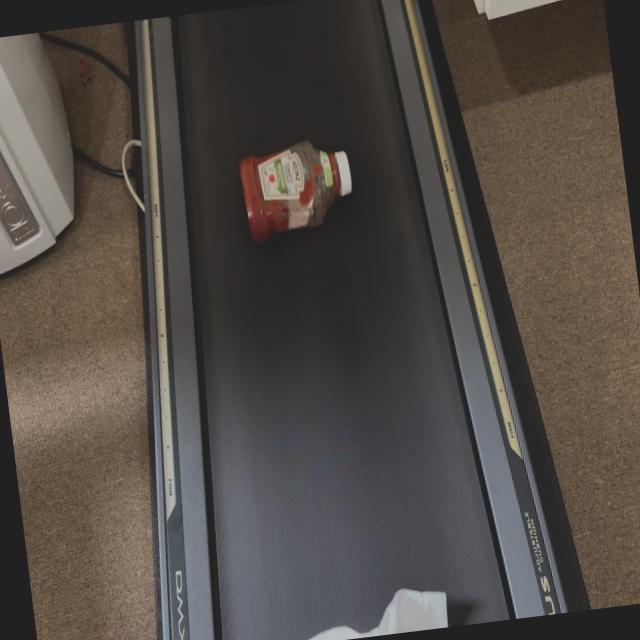Trash: (238, 137, 362, 235), (298, 590, 453, 640)
